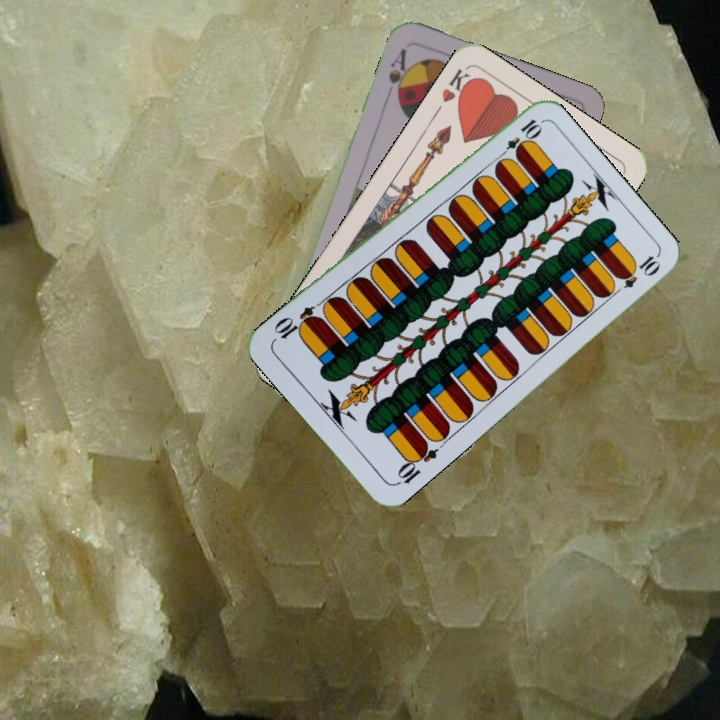E10: (392, 438, 441, 488), (494, 115, 544, 163)
HK: (431, 64, 478, 116)
SA: (384, 44, 414, 103)
